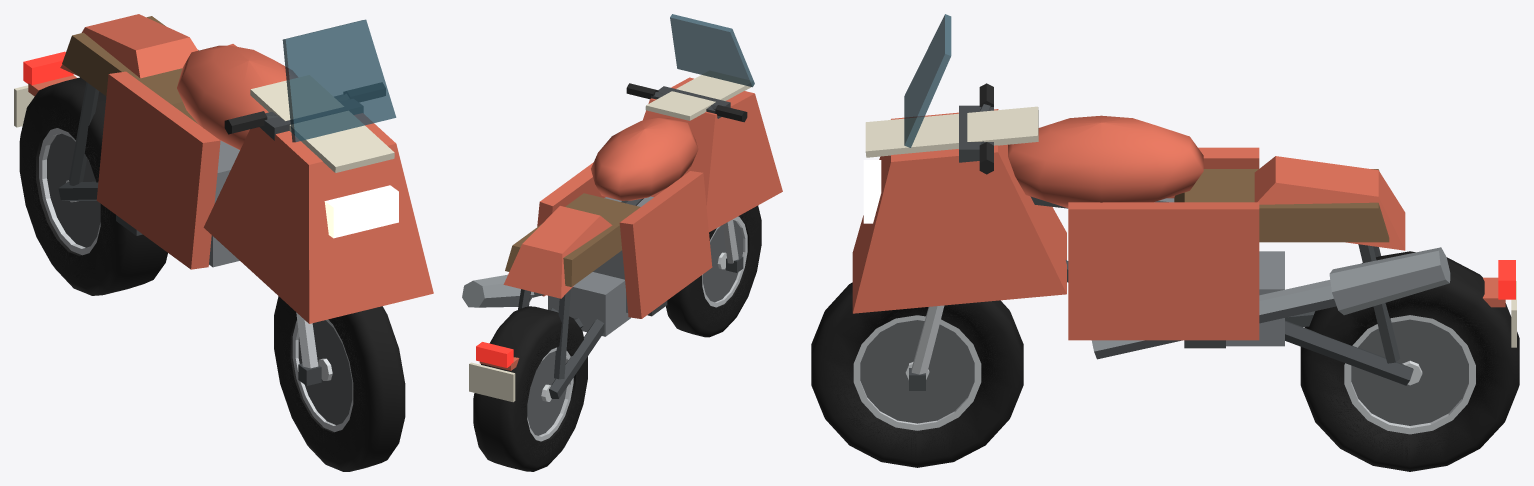
Rendered from thorn-sport-norider.glb.
3 renders of one model, left to right at view 1: azimuth 30°, elevation 25°; view 2: azimuth 150°, elevation 25°; view 3: azimuth 270°, elevation 25°, orthographic. The views are drawn at different scales.
Parts seen in each view (by area): view 1: frame, wheel_F, wheel_R, fork, headlight, taillight, plate_R; view 2: frame, wheel_R, wheel_F, fork, plate_R, taillight; view 3: frame, wheel_R, wheel_F, fork, headlight, taillight.
Part boxes in pixels (<box>): frame: <box>28,14,433,323</box>; wheel_F: <box>274,296,405,471</box>; wheel_R: <box>19,77,167,295</box>; fork: <box>224,19,396,385</box>; headlight: <box>324,185,398,238</box>; taillight: <box>23,51,73,85</box>; plate_R: <box>14,75,75,127</box>; frame: <box>462,71,782,398</box>; wheel_R: <box>473,306,587,471</box>; wheel_F: <box>666,205,761,337</box>; fork: <box>626,14,754,272</box>; plate_R: <box>469,362,515,402</box>; taillight: <box>476,342,513,367</box>; frame: <box>852,106,1505,385</box>; wheel_R: <box>1300,251,1519,471</box>; wheel_F: <box>811,282,1023,467</box>; fork: <box>904,14,993,390</box>; headlight: <box>863,160,881,223</box>; taillight: <box>1498,260,1515,299</box>.
Size of the model in its own units: 0.5195 by 1.36 by 2.04.
